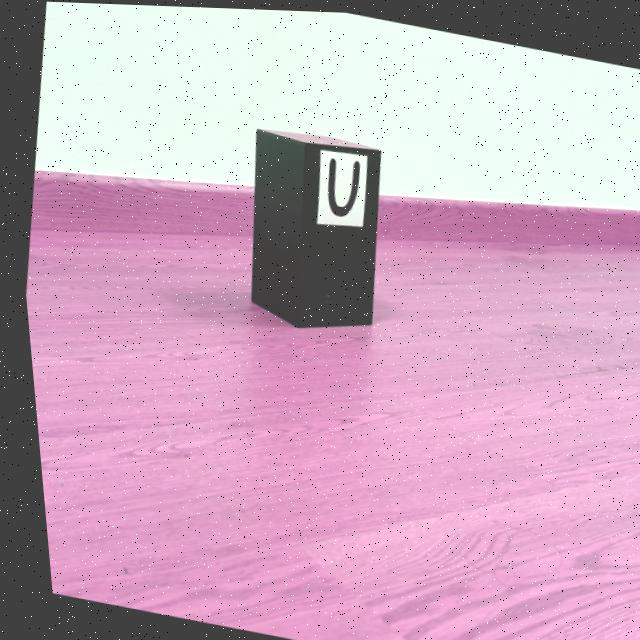U: (324, 156, 357, 215)
